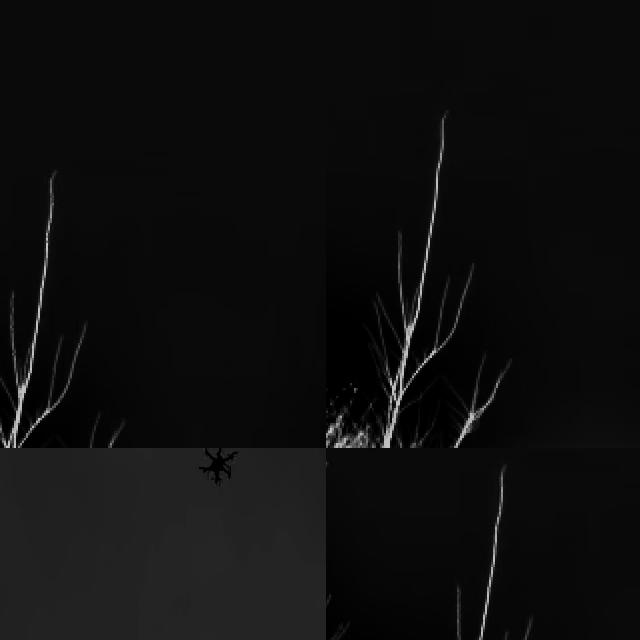0: (326, 452, 343, 479), (326, 156, 337, 179)
drone: (198, 448, 238, 489)
